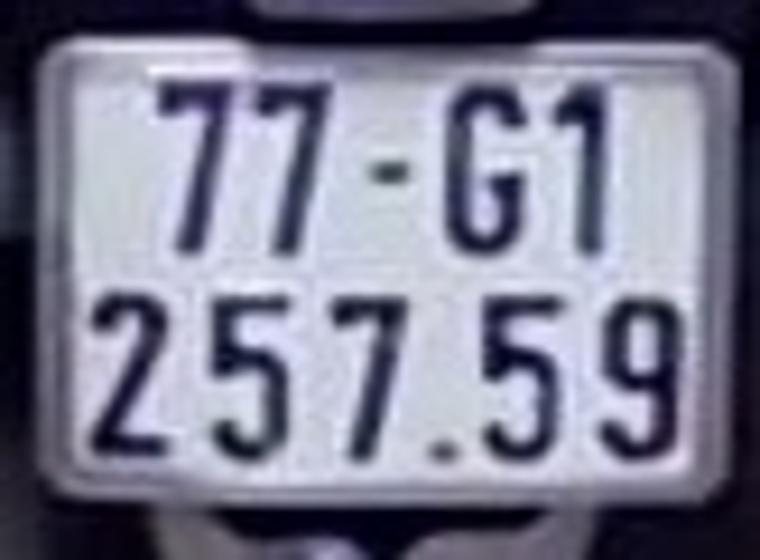-: (370, 159, 414, 188)
.: (427, 429, 465, 479)
1: (553, 80, 615, 269)
2: (84, 286, 172, 460)
5: (480, 290, 568, 467), (206, 292, 296, 461)
7: (327, 284, 407, 462), (254, 82, 335, 257), (154, 76, 227, 252)
9: (600, 290, 684, 465)
G: (443, 84, 537, 258)
